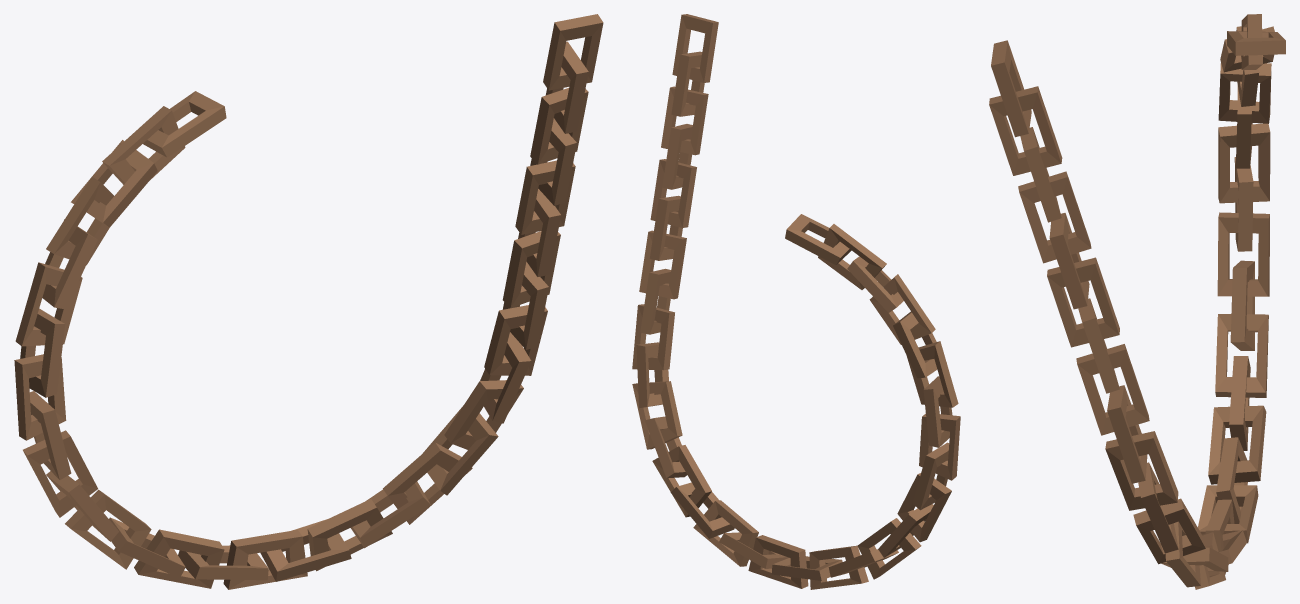
The model's file is Chain_01_Bend_02.fbx.
3 renders of one model, left to right at view 1: azimuth 30°, elevation 25°; view 2: azimuth 150°, elevation 25°; view 3: azimuth 270°, elevation 25°, orthographic. The views are drawn at different scales.
Parts seen in each view (by area): view 1: Chain_01_Bend_02; view 2: Chain_01_Bend_02; view 3: Chain_01_Bend_02.
Boxes of the visible parts, box(x1,y1,x2,y2) form: Chain_01_Bend_02: box(14, 14, 603, 589); Chain_01_Bend_02: box(632, 14, 960, 589); Chain_01_Bend_02: box(989, 14, 1285, 589).
Size of the model in its own units: 201 by 242 by 106.
